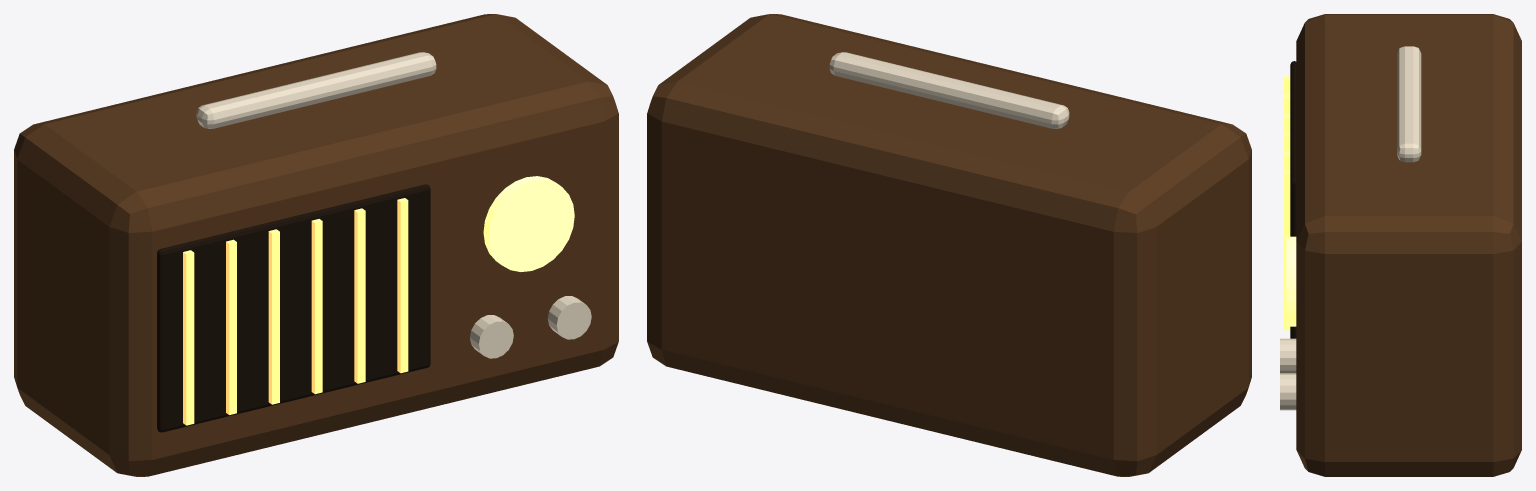
Rendered from radio_1964.glb.
The picture shows the model from 3 angles, left to right: view 1: azimuth 30°, elevation 25°; view 2: azimuth 150°, elevation 25°; view 3: azimuth 270°, elevation 25°; orthographic projection. The views are drawn at different scales.
Parts seen in each view (by area): view 1: body, grille, dial, handle, bar0, bar2, bar4, bar5, bar3, bar1, knob0, knob1; view 2: body, handle; view 3: body, handle, grille, dial, bar5, knob1, knob0.
Part boxes in pixels (x1=…): body: x1=14, y1=14, x2=618, y2=476; grille: x1=157, y1=184, x2=430, y2=432; dial: x1=483, y1=176, x2=574, y2=271; handle: x1=196, y1=52, x2=436, y2=128; bar0: x1=183, y1=250, x2=194, y2=425; bar2: x1=268, y1=229, x2=279, y2=404; bar4: x1=354, y1=208, x2=365, y2=383; bar5: x1=397, y1=198, x2=408, y2=373; bar3: x1=311, y1=219, x2=322, y2=394; bar1: x1=226, y1=239, x2=236, y2=414; knob0: x1=470, y1=315, x2=513, y2=358; knob1: x1=547, y1=296, x2=591, y2=339; body: x1=647, y1=14, x2=1251, y2=476; handle: x1=829, y1=52, x2=1069, y2=128; body: x1=1296, y1=14, x2=1521, y2=476; handle: x1=1397, y1=46, x2=1421, y2=162; grille: x1=1290, y1=61, x2=1296, y2=338; dial: x1=1286, y1=236, x2=1296, y2=326; bar5: x1=1284, y1=170, x2=1290, y2=330; knob1: x1=1280, y1=373, x2=1296, y2=410; knob0: x1=1280, y1=338, x2=1296, y2=373.
Size of the model in its own units: 1.3 by 0.775 by 0.59.
